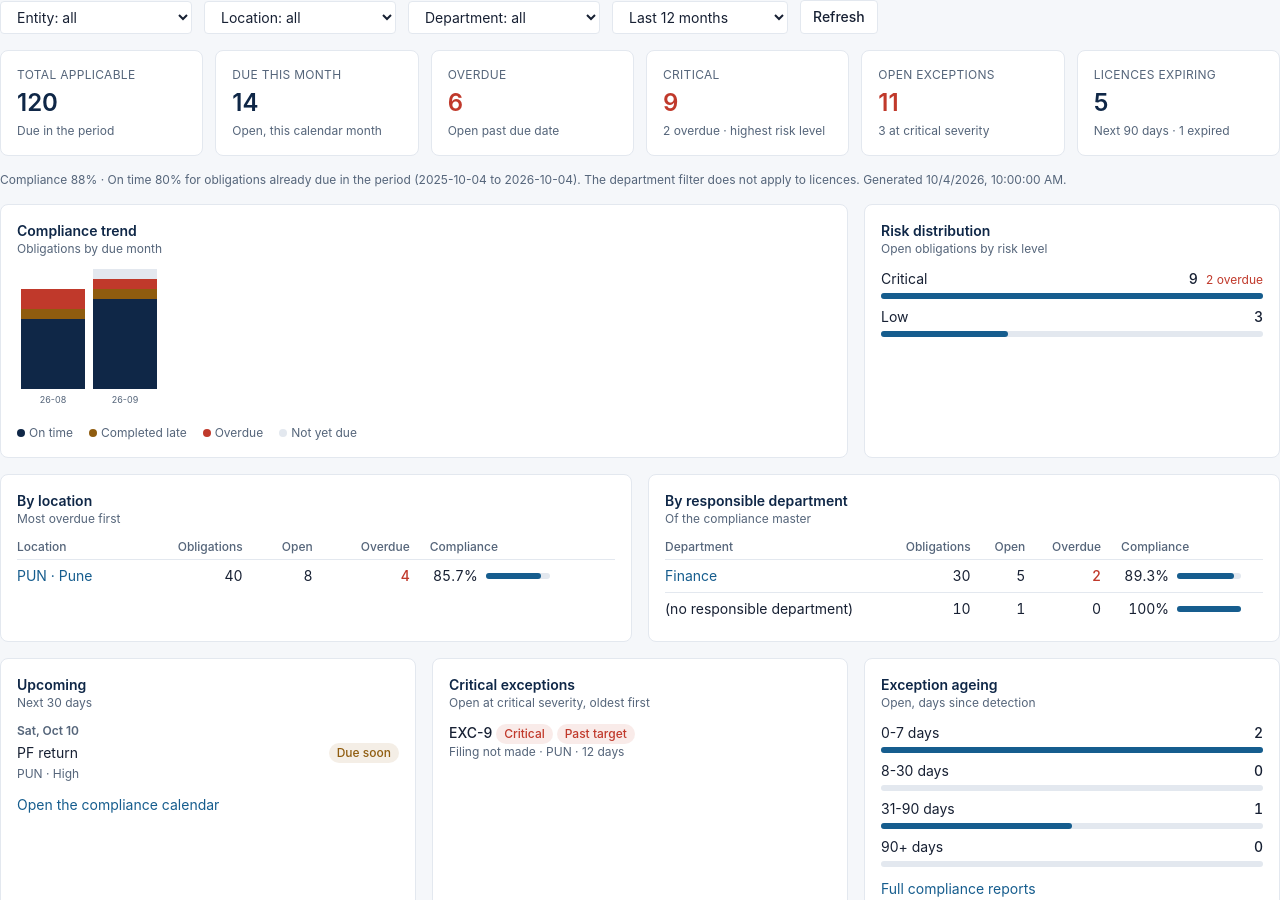
Test: Management dashboard › changing a filter writes it to the URL and re-queries; the entity change clears the location
Expected: the text "Total applicable" is shown, x1=17 y1=67 x2=136 y2=82
Select "BFCL Ltd" in the dropdown named "Entity" at (96, 18), box x1=0 y1=1 x2=192 y2=34
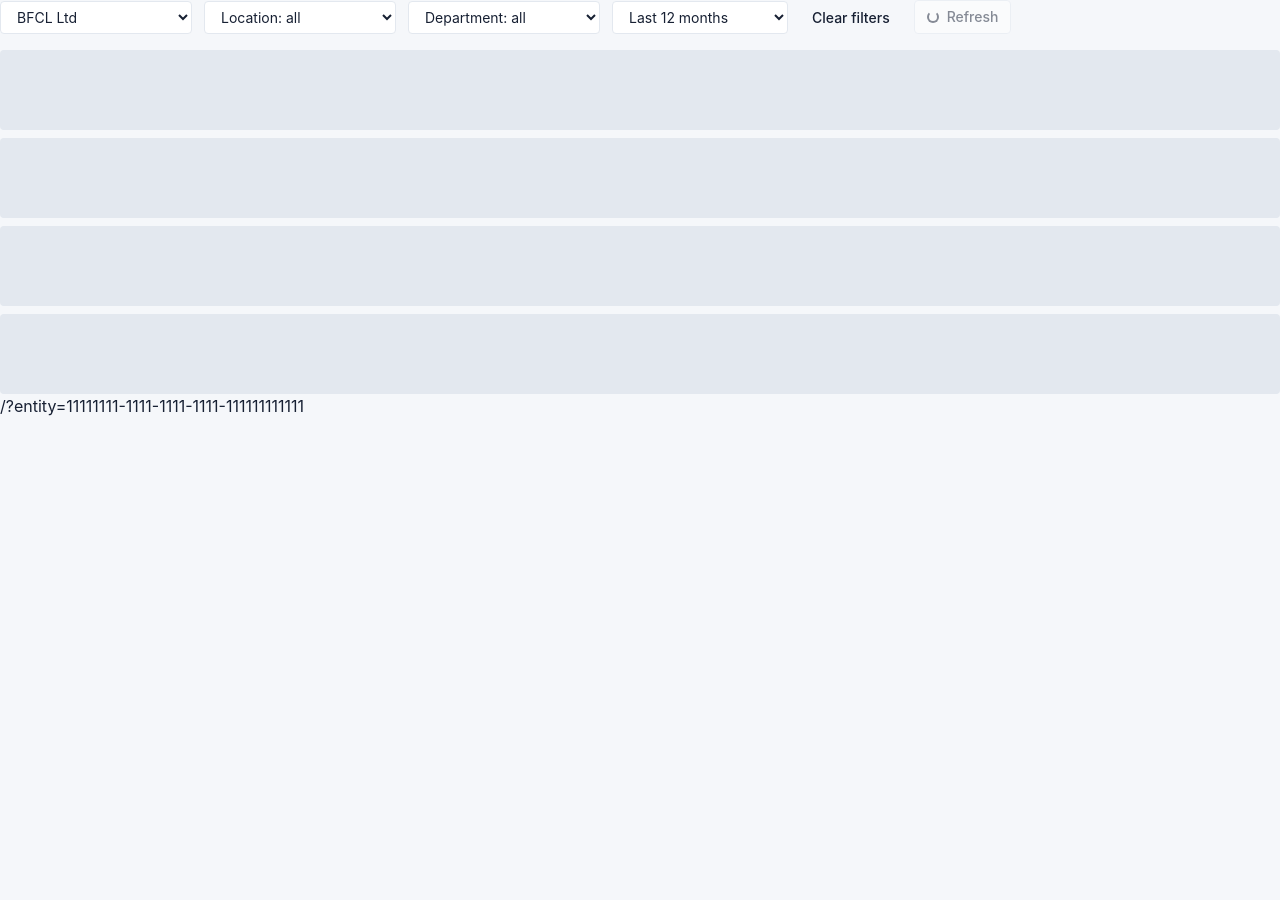
Select "Finance" in the dropdown named "Department" at (504, 18), box x1=408 y1=1 x2=600 y2=34
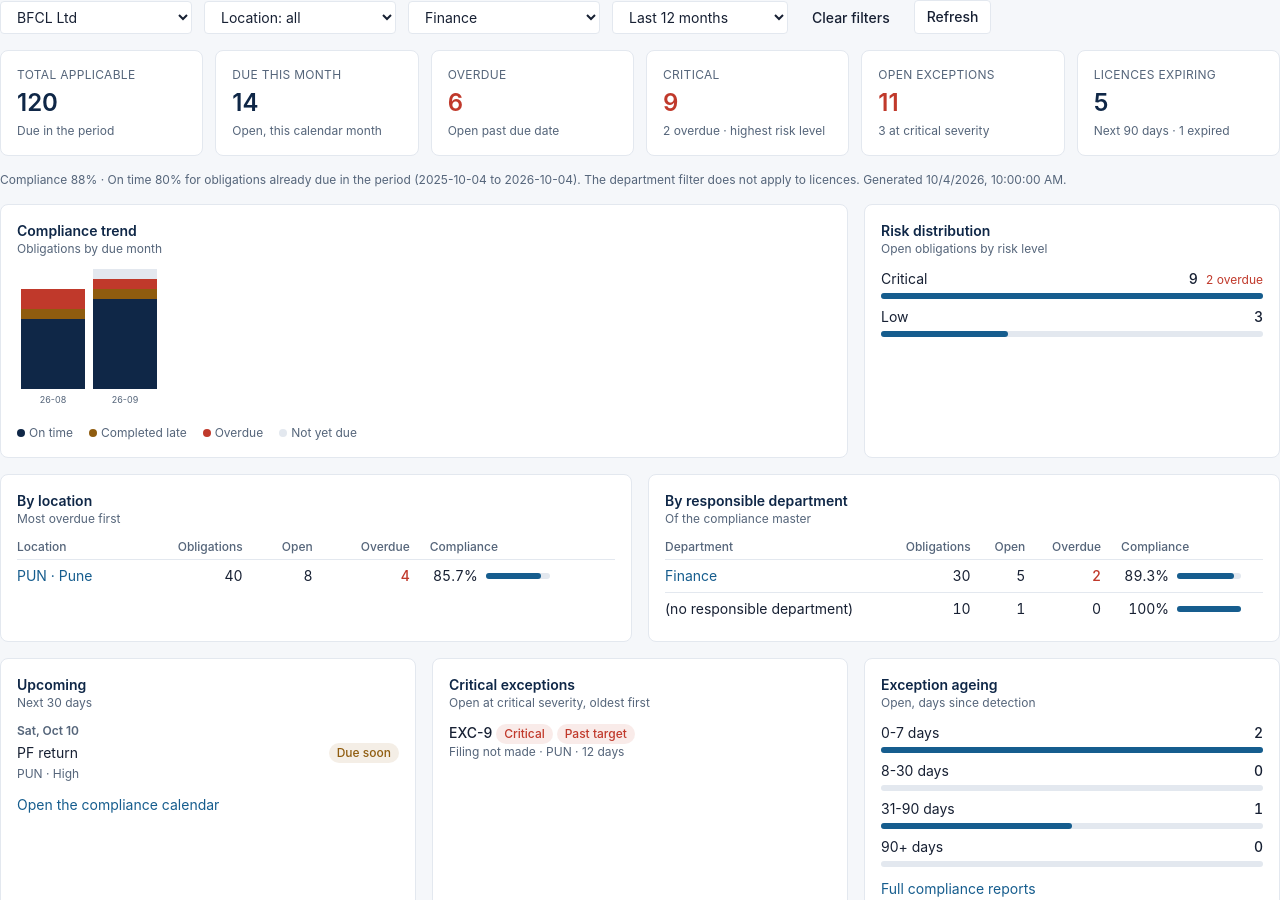
Click the button "Clear filters".
click(851, 18)  # box x1=800 y1=2 x2=902 y2=34
(page scrolled)
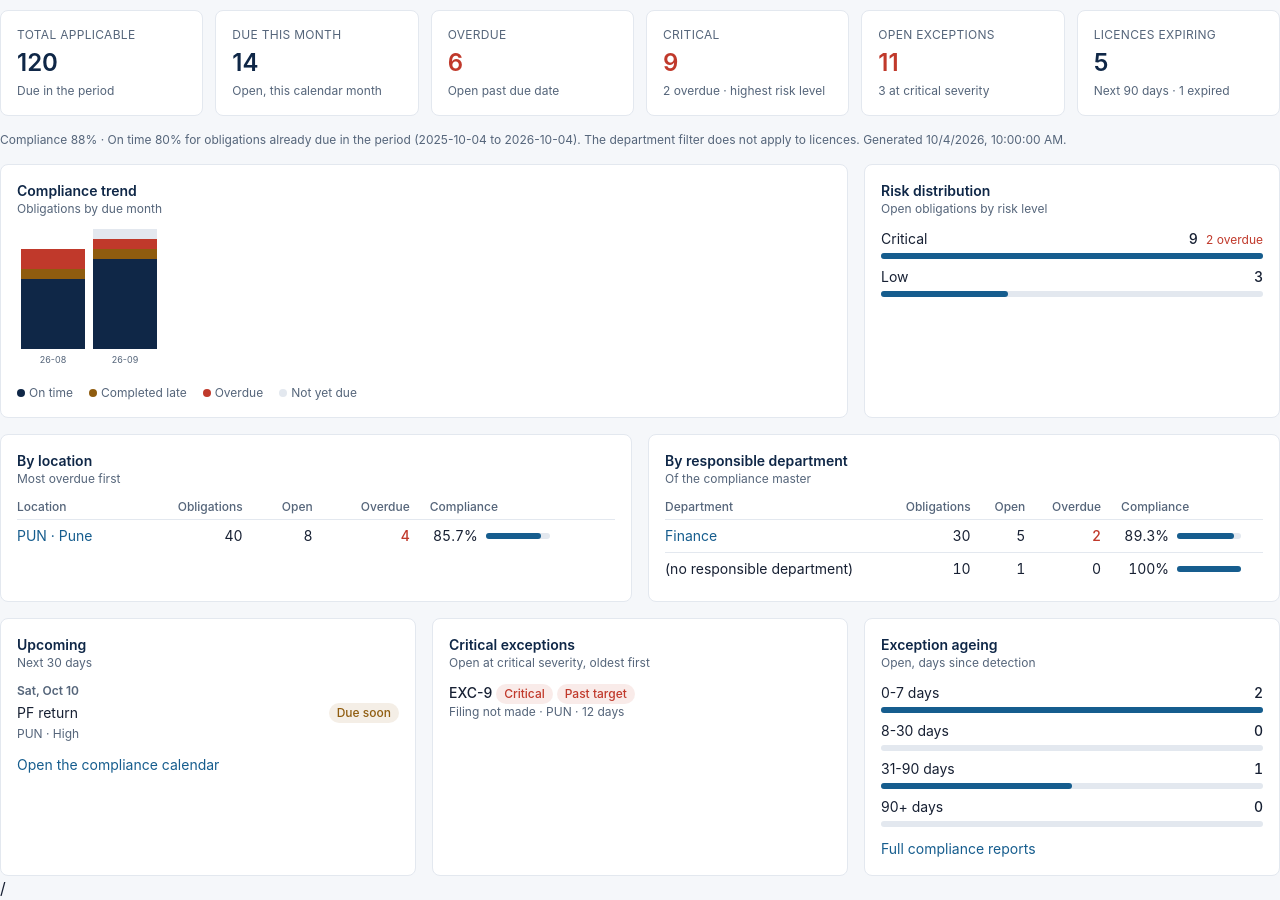
Result: the text with test id "loc" reads "/" at x1=0 y1=878 x2=6 y2=898
